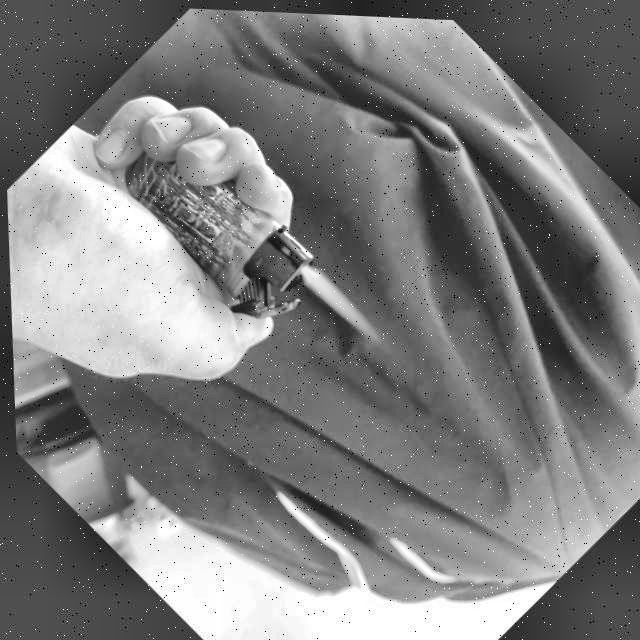Fire: (290, 251, 383, 346)
